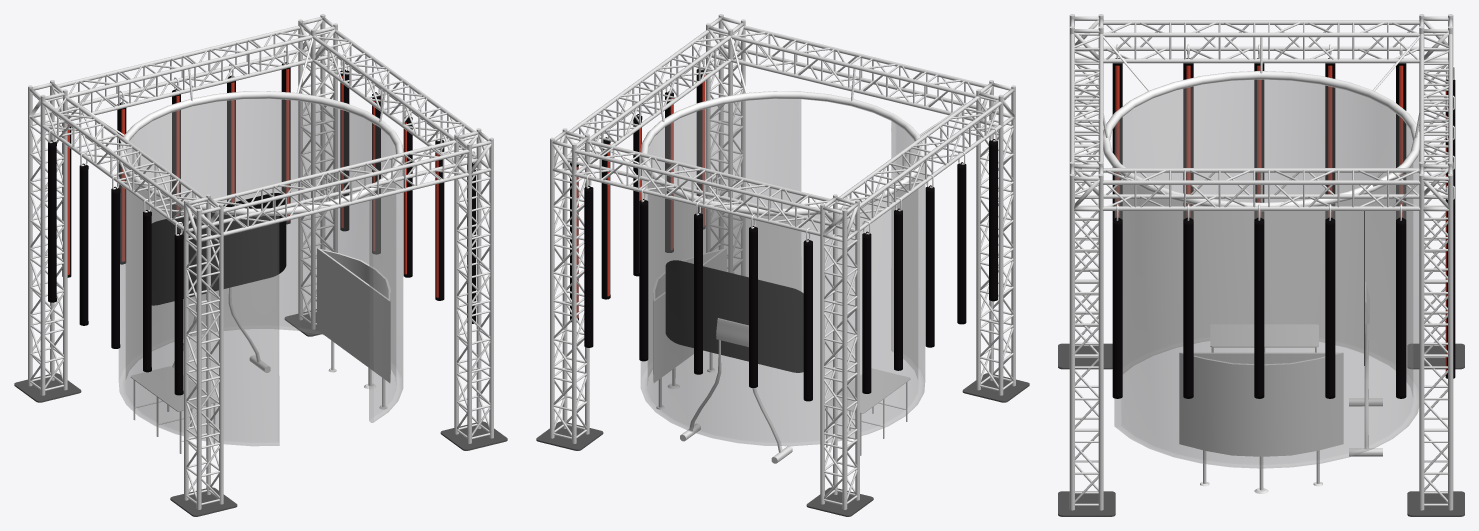
The model's file is Small.fbx.
3 views of the same model, side by side, from view 1: azimuth 30°, elevation 25°; view 2: azimuth 150°, elevation 25°; view 3: azimuth 270°, elevation 25° (orthographic). The views are drawn at different scales.
Visible parts, largest first — view 1: 円.012, 円.001, 円柱.006, 円.004, 立方体.014, 立方体.011, 円.010, 円.006, 円.005, 円柱.007, 円.002, 円.011 (+4 smaller); view 2: 円.012, 円.001, 円柱.006, 立方体.011, 円.004, 円柱.007, 円.010, 円.006, 円.005, 円.002, 円.011, 立方体.008 (+4 smaller); view 3: 円.012, 円柱.006, 立方体.014, 円.001, 円.002, 円.010, 円.011, 円.006, 立方体.008, 円.005, 円.004, 平面 (+3 smaller).
Boxes of the visible parts, bbox=[...] form: 円.012: bbox=[119, 97, 402, 445]; 円.001: bbox=[28, 50, 493, 509]; 円柱.006: bbox=[48, 60, 475, 395]; 円.004: bbox=[56, 26, 469, 235]; 立方体.014: bbox=[317, 248, 390, 409]; 立方体.011: bbox=[151, 193, 286, 305]; 円.010: bbox=[44, 31, 475, 224]; 円.006: bbox=[54, 28, 466, 231]; 円.005: bbox=[28, 14, 493, 244]; 円柱.007: bbox=[62, 50, 290, 277]; 円.002: bbox=[42, 30, 476, 231]; 円.011: bbox=[119, 91, 403, 216]; 円.012: bbox=[641, 97, 924, 445]; 円.001: bbox=[550, 49, 1015, 509]; 円柱.006: bbox=[570, 56, 997, 393]; 立方体.011: bbox=[665, 260, 803, 372]; 円.004: bbox=[574, 26, 987, 235]; 円柱.007: bbox=[584, 174, 812, 401]; 円.010: bbox=[565, 31, 998, 230]; 円.006: bbox=[577, 28, 989, 231]; 円.005: bbox=[550, 14, 1015, 244]; 円.002: bbox=[567, 30, 1001, 231]; 円.011: bbox=[640, 91, 924, 216]; 立方体.008: bbox=[536, 373, 1029, 516]; 円.012: bbox=[1114, 78, 1419, 468]; 円柱.006: bbox=[1112, 44, 1406, 398]; 立方体.014: bbox=[1179, 352, 1343, 493]; 円.001: bbox=[1069, 57, 1453, 510]; 円.002: bbox=[1102, 20, 1420, 210]; 円.010: bbox=[1105, 22, 1418, 207]; 円.011: bbox=[1103, 71, 1419, 211]; 円.006: bbox=[1074, 33, 1448, 196]; 立方体.008: bbox=[1058, 343, 1464, 516]; 円.005: bbox=[1069, 14, 1453, 213]; 円.004: bbox=[1070, 34, 1452, 161]; 平面: bbox=[1210, 324, 1318, 352].
Size of the model in its own units: 495 by 452 by 495.
